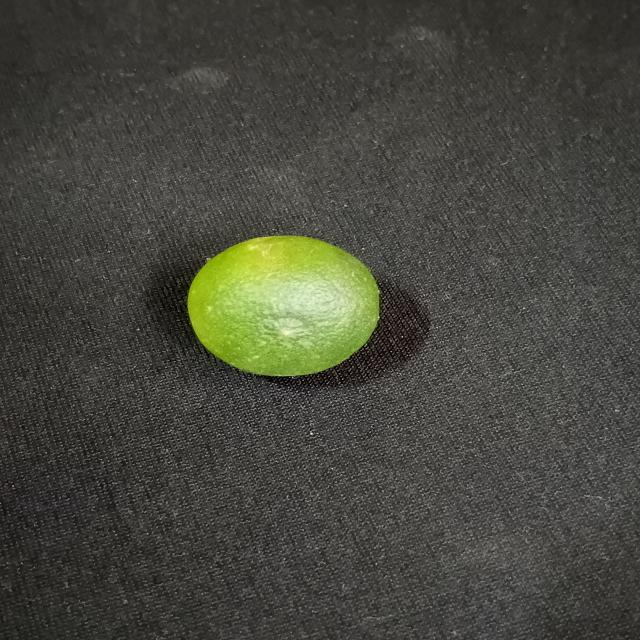heathy: (183, 230, 386, 378)
